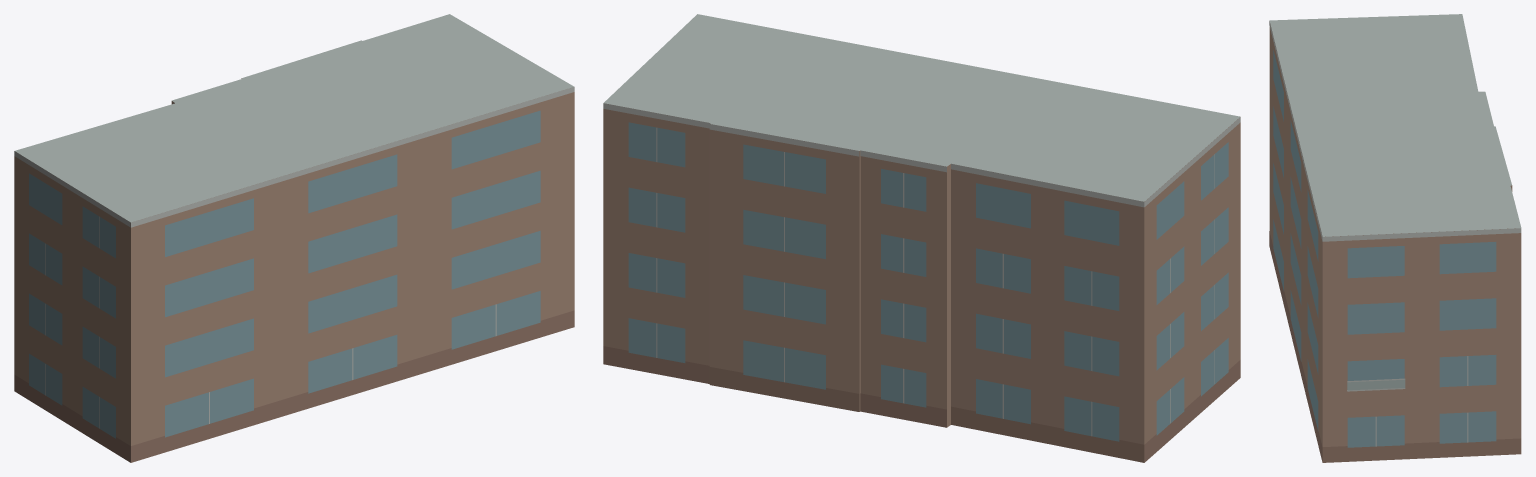
File: survey-upis-32746767.glb
3 views of the same model, side by side, from view 1: azimuth 30°, elevation 25°; view 2: azimuth 150°, elevation 25°; view 3: azimuth 270°, elevation 25° (orthographic). The views are drawn at different scales.
Visible parts, largest first — view 1: survey-upis-32746767.tmp; view 2: survey-upis-32746767.tmp; view 3: survey-upis-32746767.tmp.
Boxes of the visible parts, x1,y1,x2,y2 form: survey-upis-32746767.tmp: [14, 14, 574, 462]; survey-upis-32746767.tmp: [603, 14, 1240, 462]; survey-upis-32746767.tmp: [1269, 14, 1521, 462].
Bounding box in the file's own units: 23.91 × 11.3 × 11.43.
